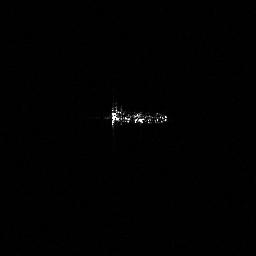ship: (108, 103, 168, 129)
